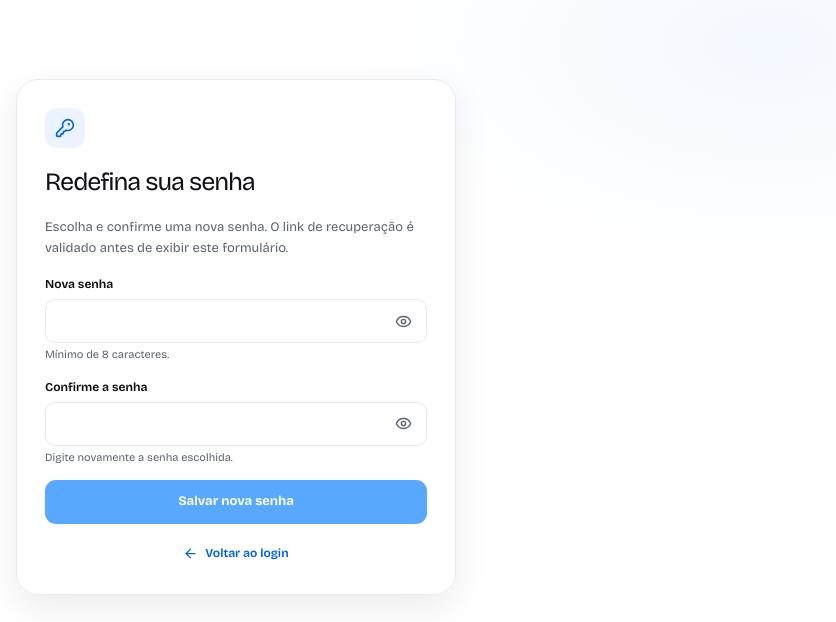
it: Netlify Identity invitation and password reset pages › updates the password through the SDK only after a recovery session is established
The width and height of the screenshot is (836, 622).
Check: the heading "Redefina sua senha" is shown, box x1=45 y1=167 x2=255 y2=197
Type "New-password-2026" into the password field labelled "Nova senha".
click(236, 321); type("New-password-2026")  # box x1=45 y1=299 x2=427 y2=343
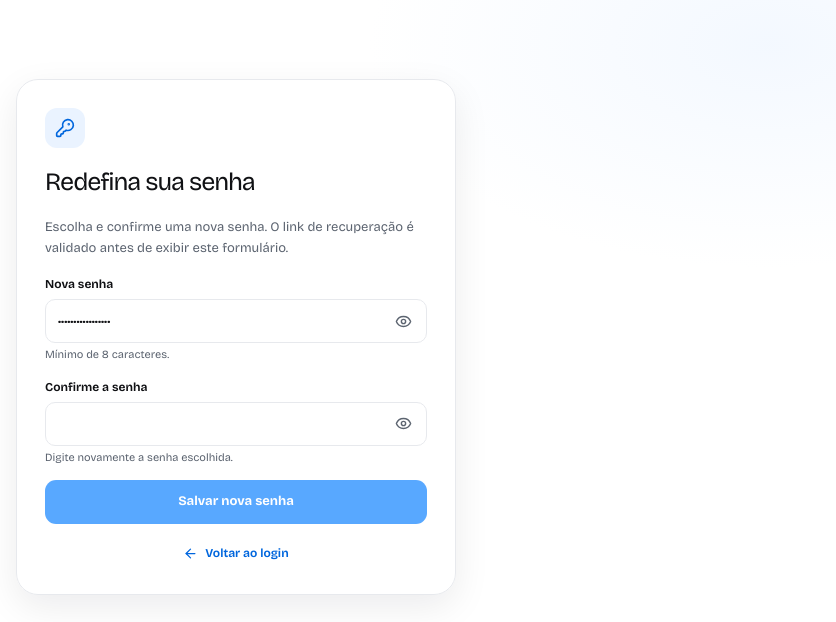
Type "New-password-2026" into the password field labelled "Confirme a senha".
click(236, 424); type("New-password-2026")  # box x1=45 y1=402 x2=427 y2=446
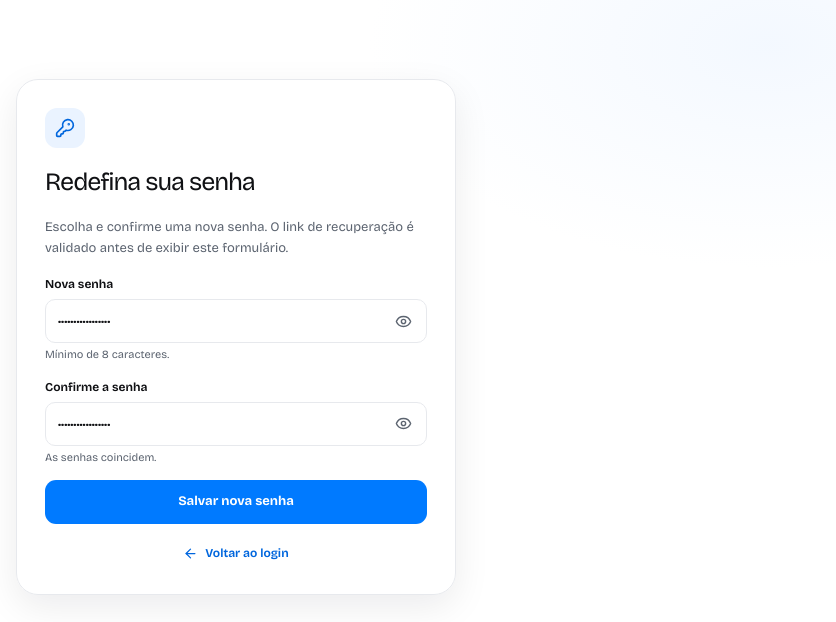
Click the button "Salvar nova senha".
click(236, 502)  # box x1=45 y1=480 x2=427 y2=524
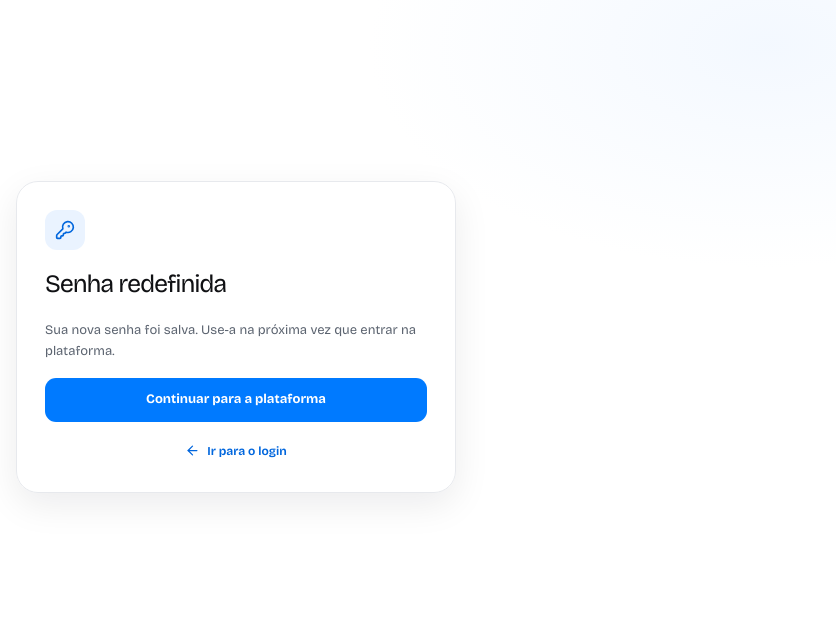
Check: the heading "Senha redefinida" is shown, box x1=45 y1=270 x2=226 y2=300
